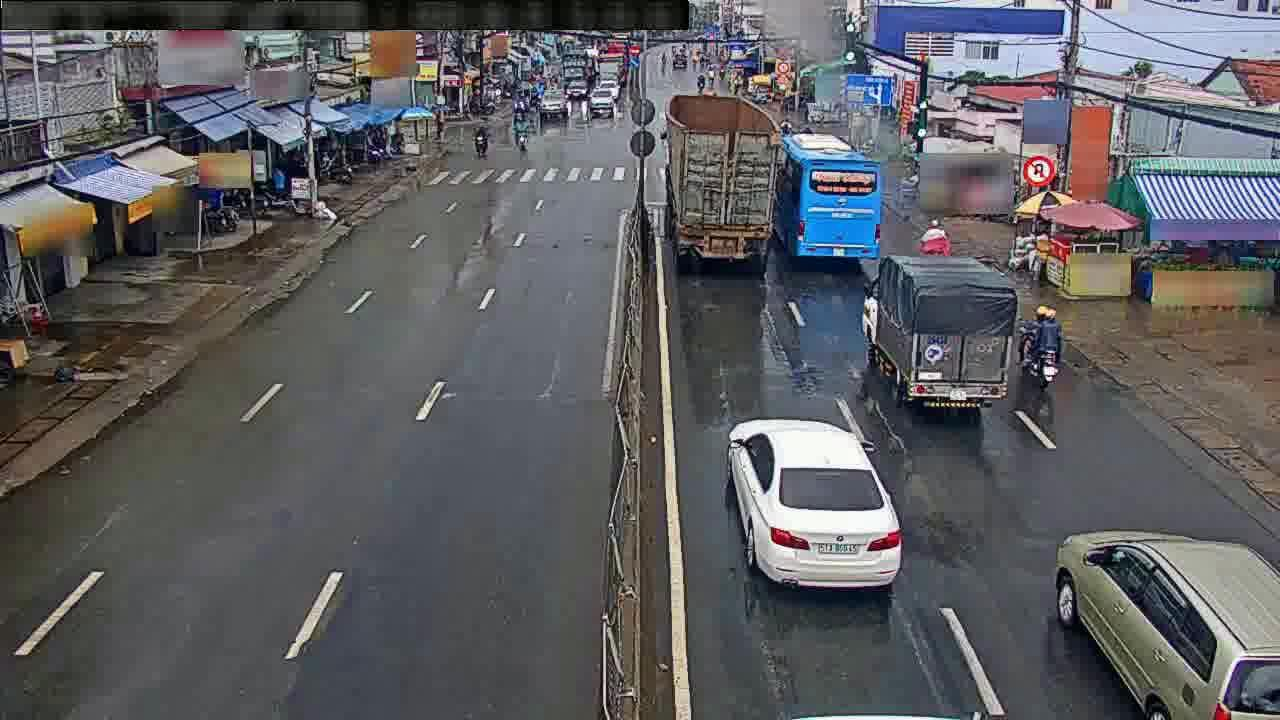car: (1053, 525, 1280, 720), (725, 418, 904, 595), (538, 89, 571, 122), (561, 76, 590, 100), (588, 87, 614, 113), (598, 77, 620, 103), (673, 53, 687, 70)
container: (874, 255, 1008, 405), (669, 94, 774, 272)
motorbike: (1017, 300, 1065, 384), (911, 214, 952, 263), (508, 115, 530, 148), (471, 124, 487, 153)
passenger_car: (779, 135, 886, 263)
